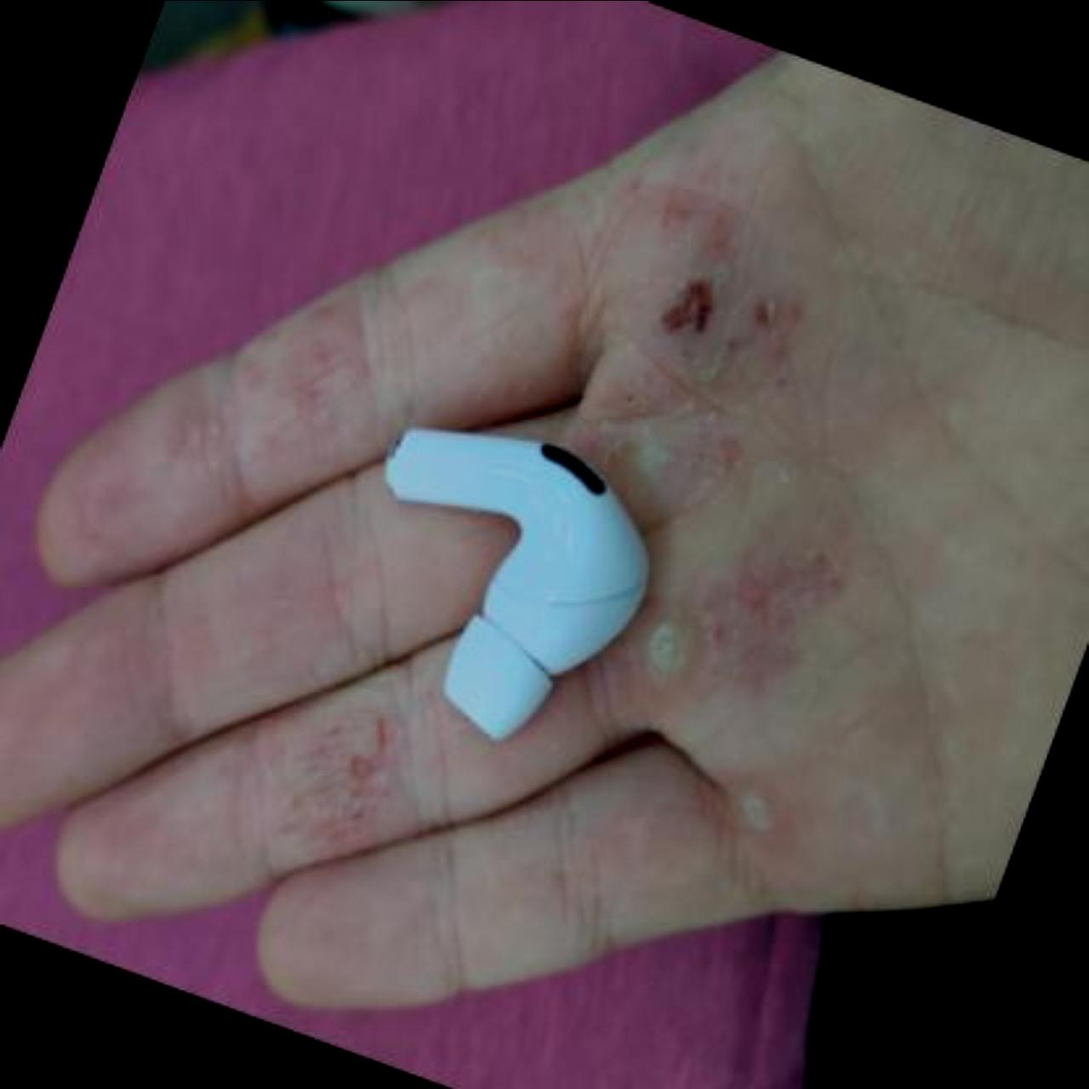Airpods_Units: (290, 351, 701, 764)
